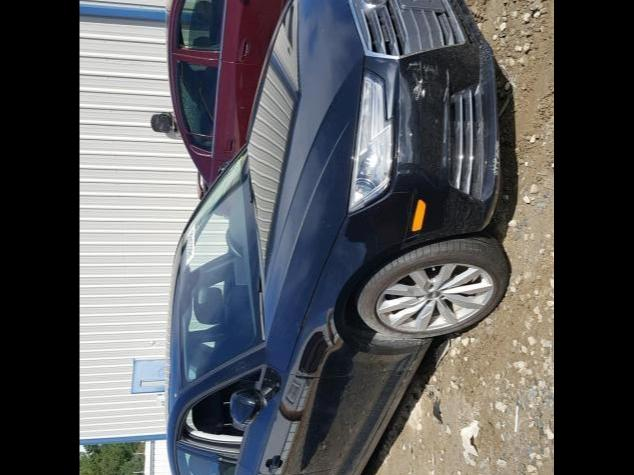Dent: (400, 50, 446, 102)
Missing part: (179, 380, 256, 448)
Scratch: (408, 60, 438, 98), (494, 140, 500, 174)
